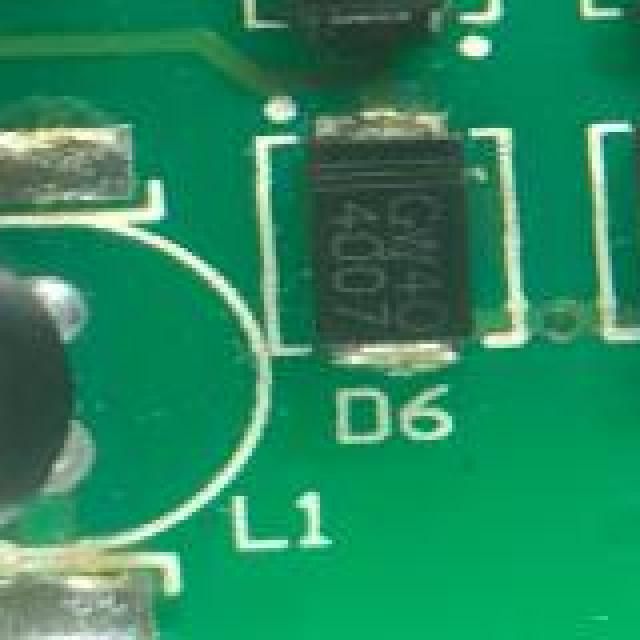capacitor: (0, 200, 152, 596)
diode: (260, 128, 502, 376), (236, 0, 472, 44), (616, 112, 640, 368), (596, 0, 640, 36)
